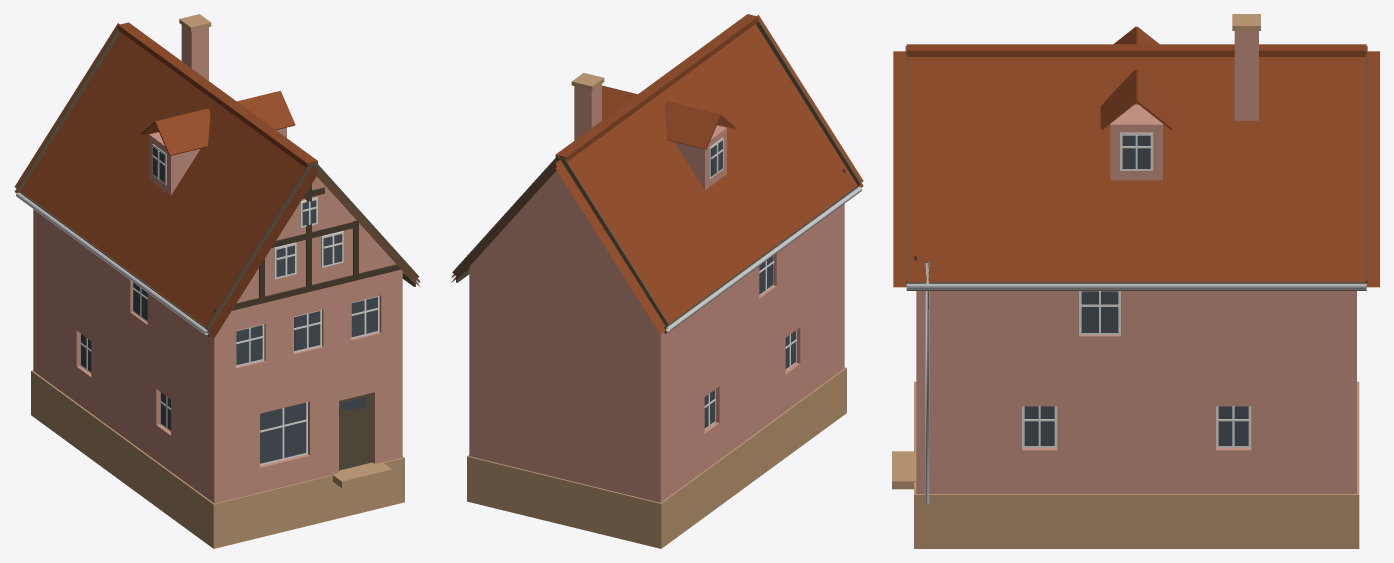
Rendered from oldtown-gable-2-lod1.glb.
3 renders of one model, left to right at view 1: azimuth 30°, elevation 25°; view 2: azimuth 150°, elevation 25°; view 3: azimuth 270°, elevation 25°, orthographic. The views are drawn at different scales.
Visible parts, largest first — view 1: oldtown-gable-2-plaster.001; view 2: oldtown-gable-2-plaster.001; view 3: oldtown-gable-2-plaster.001.
Boxes of the visible parts, x1,y1,x2,y2 form: oldtown-gable-2-plaster.001: [14, 14, 420, 548]; oldtown-gable-2-plaster.001: [451, 14, 863, 548]; oldtown-gable-2-plaster.001: [892, 14, 1379, 548].
Bounding box in the file's own units: 6.86 × 12.16 × 11.07.
